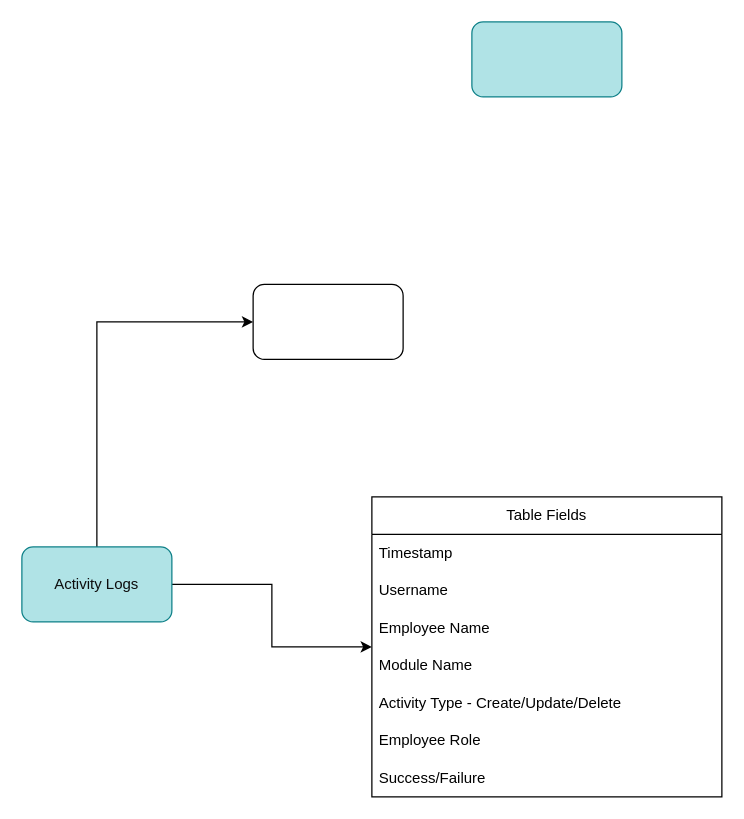
Image size: 744x819. Some labels were removed from this diagram. Each missing label, with the box of its shape:
Activity Logs (Visible to Admin only): (471, 21, 622, 97)
Search & Filters: (252, 283, 403, 359)
